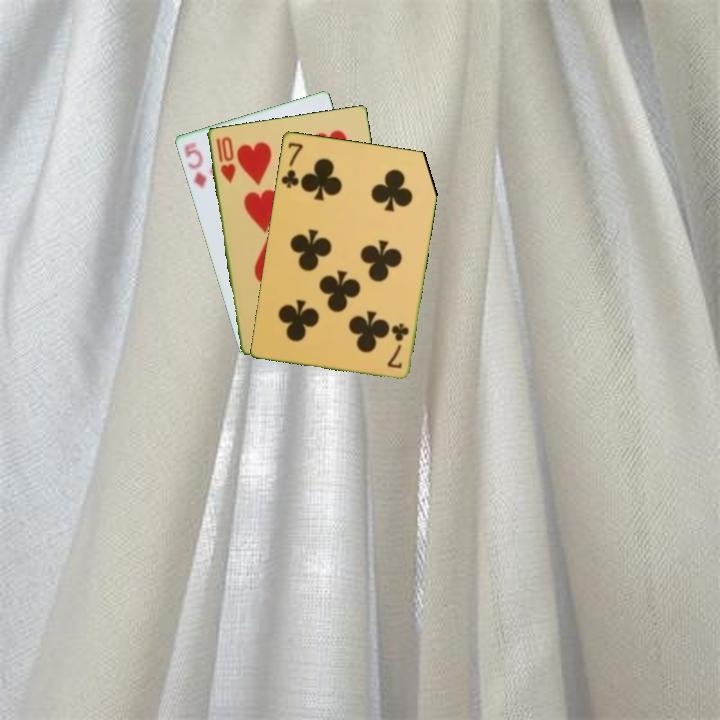10h: (212, 132, 238, 185)
5d: (182, 138, 209, 192)
7c: (277, 139, 305, 191), (384, 319, 412, 371)
